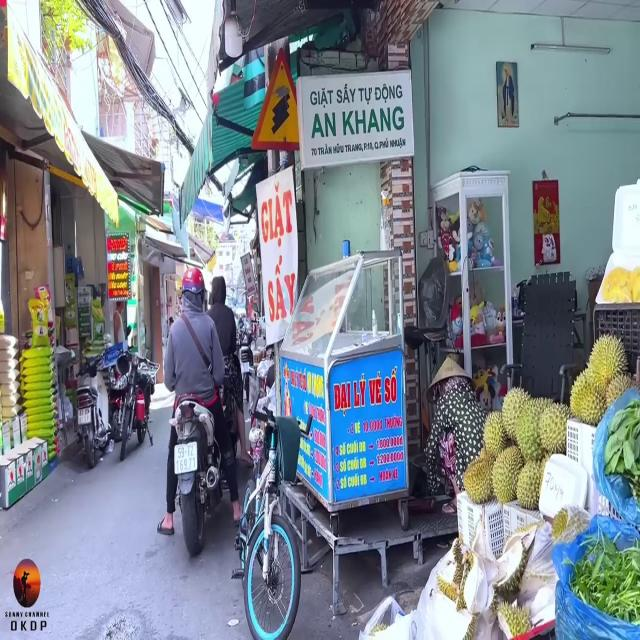bien_trang: (173, 439, 199, 474)
